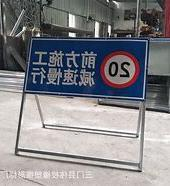sign: (22, 36, 149, 100)
